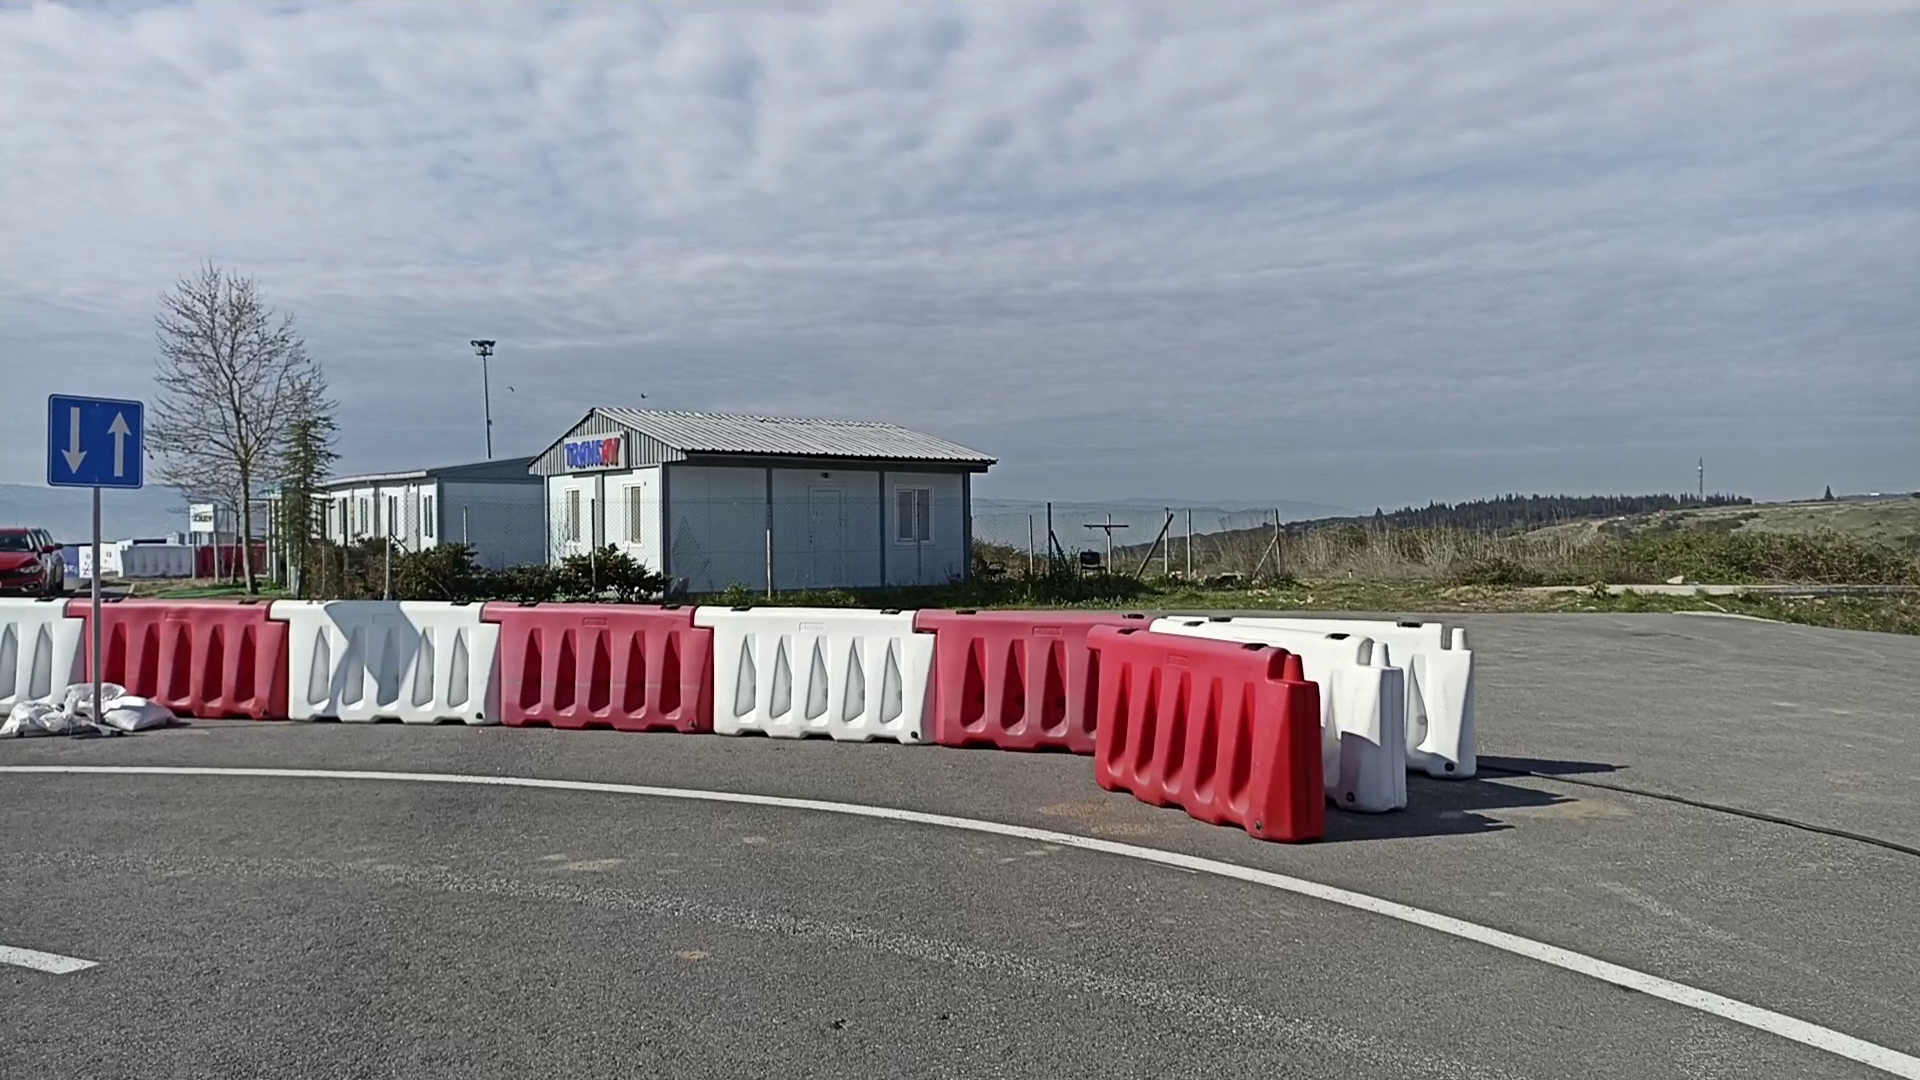oneway: (45, 392, 150, 492)
